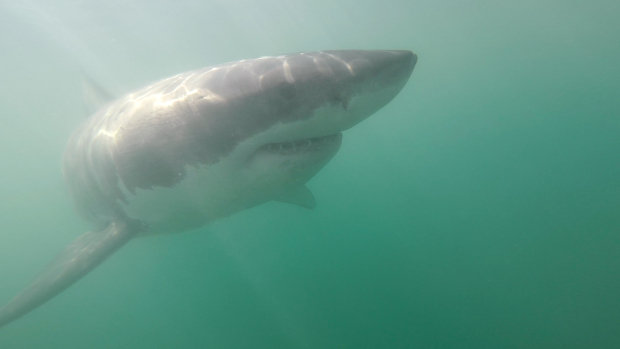shark: (1, 41, 437, 327)
